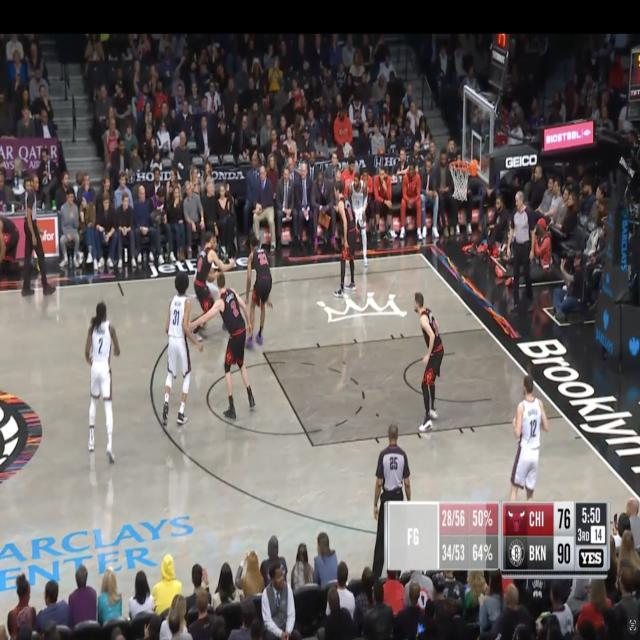no foul: (143, 261, 263, 444)
